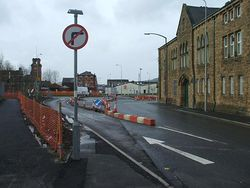No_right_turn: (62, 24, 88, 49)
